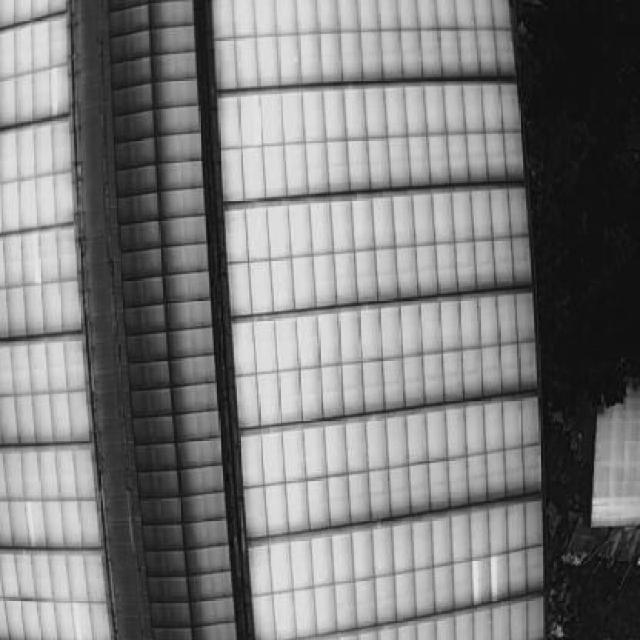diode: (488, 554, 499, 600), (31, 230, 40, 281), (472, 559, 481, 604), (48, 66, 57, 111)
